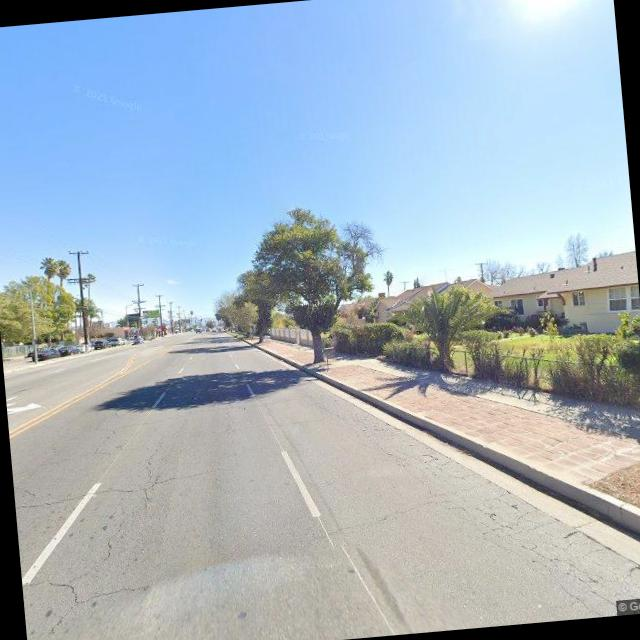crack: (318, 364, 632, 632), (41, 440, 178, 626), (13, 468, 188, 514), (22, 570, 144, 608)
